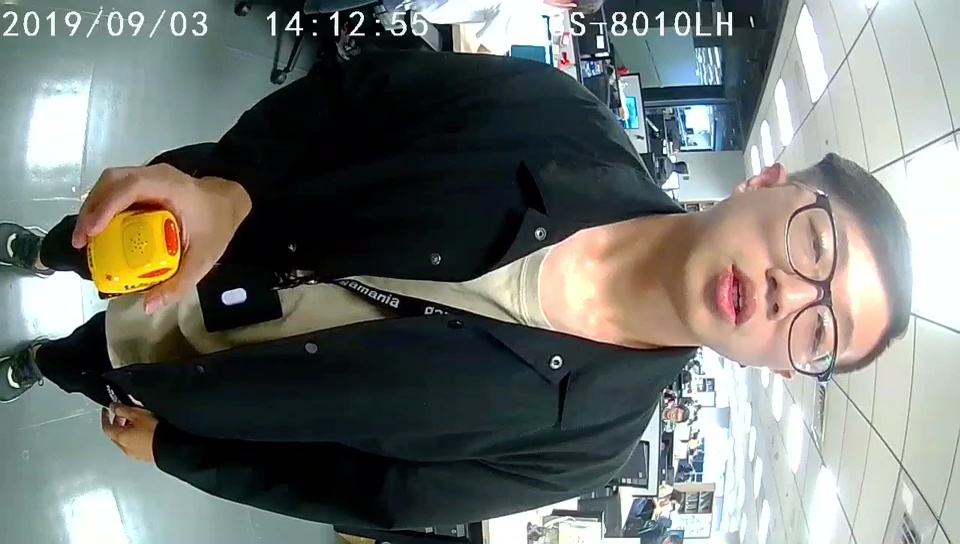car: (89, 209, 176, 292)
